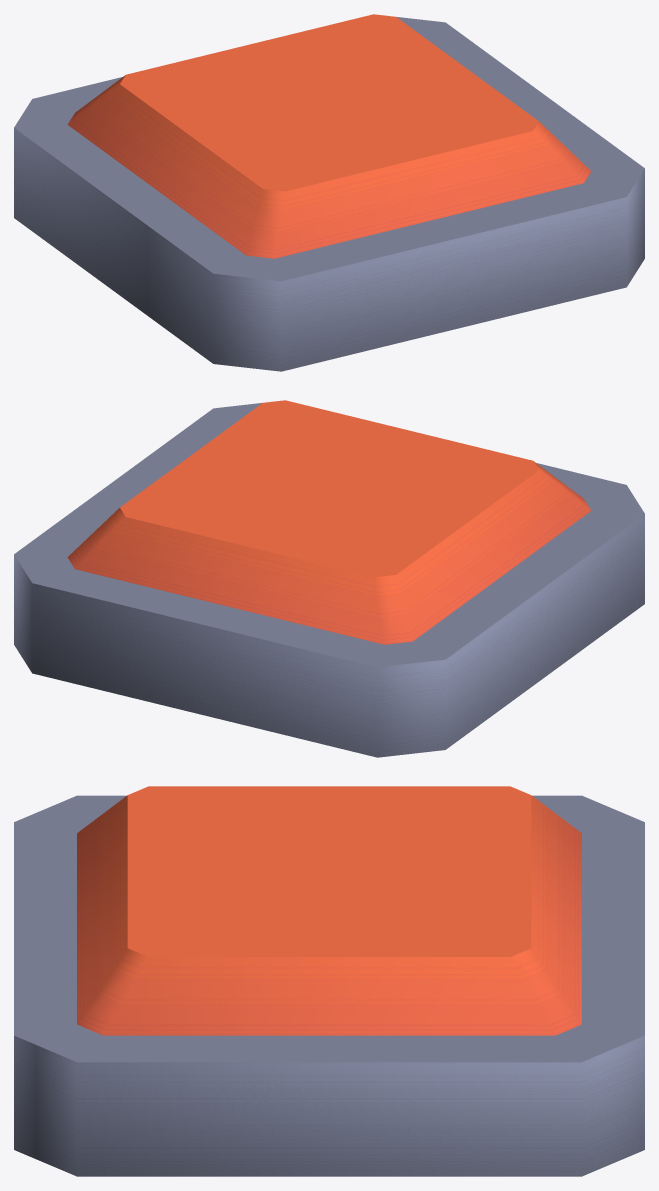
Rendered from button-floor-square-small.glb.
The picture shows the model from 3 angles, top to bottom: view 1: azimuth 30°, elevation 25°; view 2: azimuth 150°, elevation 25°; view 3: azimuth 270°, elevation 25°; orthographic projection. The views are drawn at different scales.
Parts seen in each view (by area): view 1: button-floor-square-small-col, button-col.003; view 2: button-floor-square-small-col, button-col.003; view 3: button-col.003, button-floor-square-small-col.
Part boxes in pixels (bbox=[...]): button-floor-square-small-col: bbox=[14, 17, 644, 371]; button-col.003: bbox=[67, 14, 591, 258]; button-floor-square-small-col: bbox=[14, 403, 644, 757]; button-col.003: bbox=[67, 400, 591, 644]; button-col.003: bbox=[77, 786, 581, 1035]; button-floor-square-small-col: bbox=[14, 795, 644, 1176].
Size of the model in its own units: 0.5 by 0.15 by 0.5.
1 material, 1 textured.
